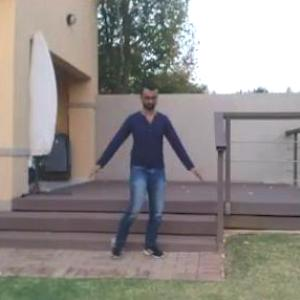land: (81, 85, 192, 267)
